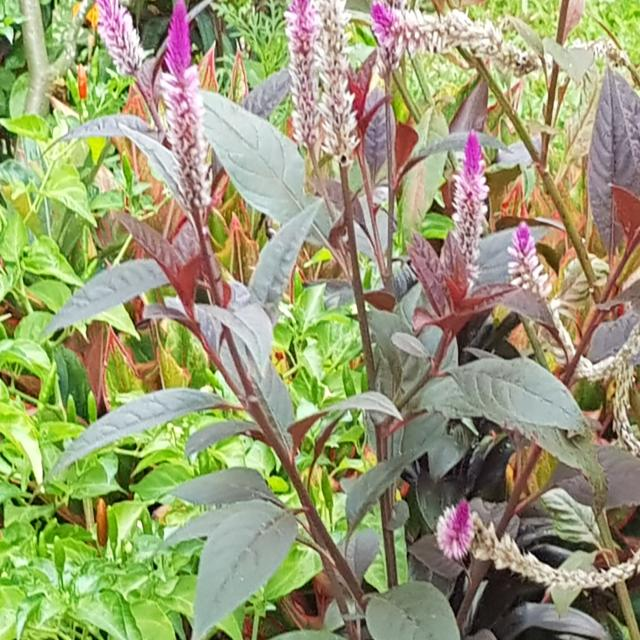Celosia-Argentea: (505, 219, 616, 400), (428, 508, 640, 599), (154, 3, 228, 232), (377, 0, 586, 59), (434, 127, 486, 336), (307, 0, 364, 166), (278, 0, 320, 167)
